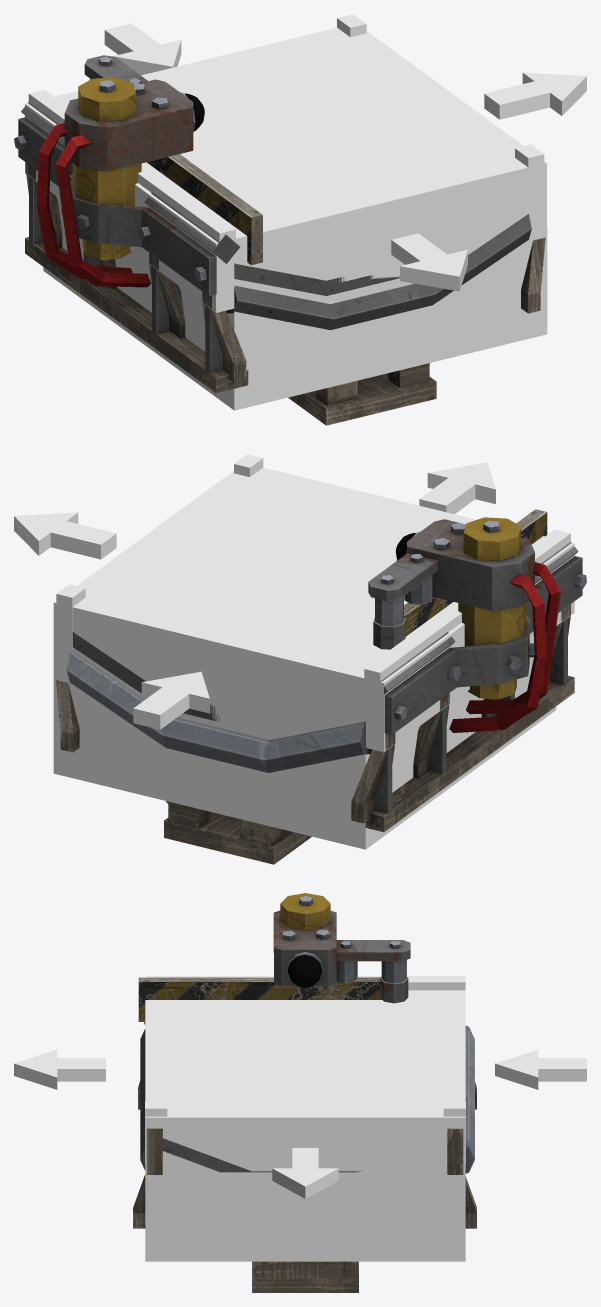
The model's file is ConveyorSplitterT2_Left.glb.
3 views of the same model, one above another, from view 1: azimuth 30°, elevation 25°; view 2: azimuth 150°, elevation 25°; view 3: azimuth 270°, elevation 25° (orthographic). The views are drawn at different scales.
Visible parts, largest first — view 1: SplitterTrigger, SplitterT2, SplitterT2_Col, SplitterT2Wiper, ghostarrow, ghostarrow (1), ghostarrow (2); view 2: SplitterTrigger, SplitterT2, SplitterT2_Col, ghostarrow, ghostarrow (2), ghostarrow (1), SplitterT2Wiper; view 3: SplitterTrigger, SplitterT2_Col, SplitterT2, SplitterT2Wiper, ghostarrow (2), ghostarrow (1), ghostarrow.
Boxes of the visible parts, x1,y1,x2,y2 form: SplitterTrigger: (25, 27, 546, 312); SplitterT2: (14, 55, 545, 425); SplitterT2_Col: (28, 14, 547, 410); SplitterT2Wiper: (147, 154, 262, 265); ghostarrow: (484, 72, 586, 119); ghostarrow (1): (391, 233, 467, 291); ghostarrow (2): (104, 23, 181, 75); SplitterTrigger: (53, 467, 574, 752); SplitterT2: (56, 517, 586, 864); SplitterT2_Col: (53, 454, 570, 849); ghostarrow: (14, 512, 116, 559); ghostarrow (2): (133, 671, 209, 729); ghostarrow (1): (419, 462, 495, 514); SplitterT2Wiper: (373, 509, 547, 649); SplitterTrigger: (145, 990, 465, 1172); SplitterT2_Col: (145, 976, 465, 1261); SplitterT2: (133, 893, 476, 1292); SplitterT2Wiper: (138, 977, 408, 1021); ghostarrow (2): (495, 1049, 586, 1089); ghostarrow (1): (14, 1049, 105, 1089); ghostarrow: (272, 1148, 338, 1198).
Bounding box in the file's own units: 1.64 × 0.8716 × 1.79.
Materials: 6 (2 with a texture image).
